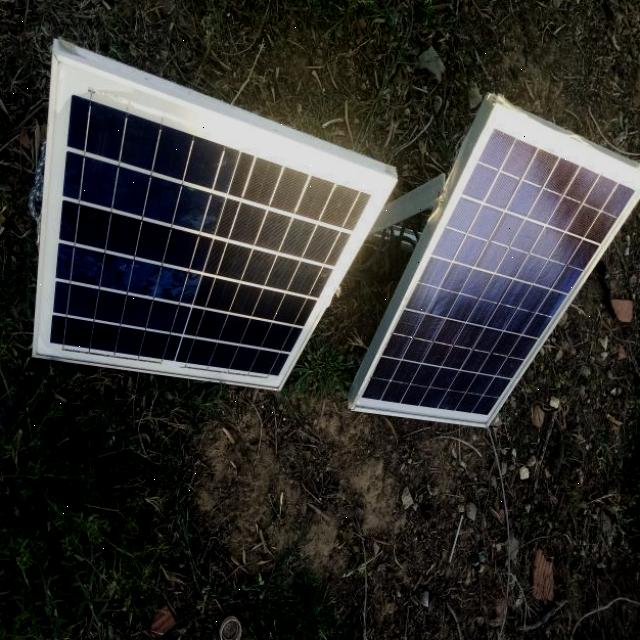Normal Solar Panel: (34, 51, 394, 392), (352, 105, 640, 426)
